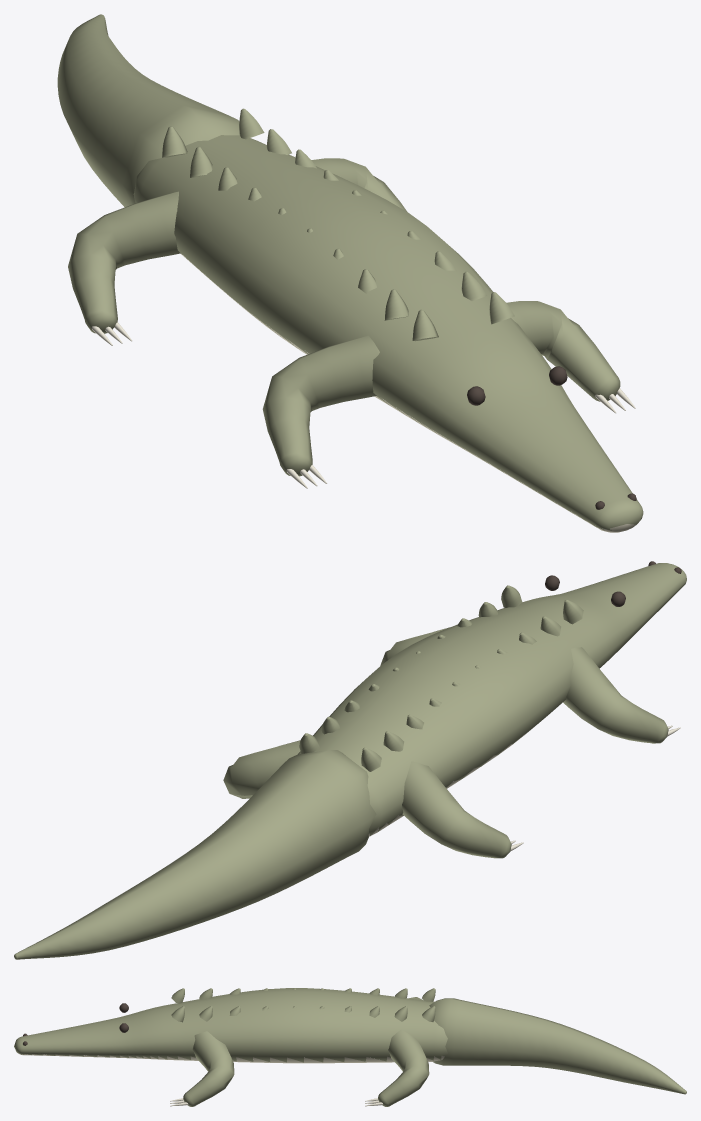
The model's file is crocodile.glb.
The picture shows the model from 3 angles, top to bottom: view 1: azimuth 30°, elevation 25°; view 2: azimuth 150°, elevation 25°; view 3: azimuth 270°, elevation 25°; orthographic projection. The views are drawn at different scales.
Visible parts, largest first — view 1: nile-crocodile; view 2: nile-crocodile; view 3: nile-crocodile.
Part boxes in pixels (bbox=[...]): nile-crocodile: bbox=[57, 14, 643, 532]; nile-crocodile: bbox=[14, 561, 686, 959]; nile-crocodile: bbox=[14, 988, 686, 1106].
Bounding box in the file's own units: 1.39 × 0.5791 × 4.84.
